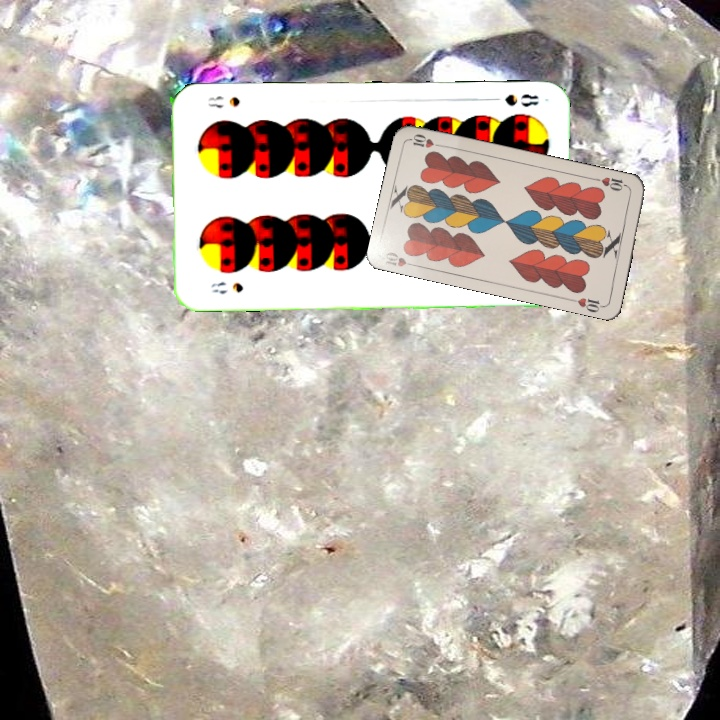H10: (381, 247, 420, 270), (591, 173, 631, 194)
S8: (485, 90, 542, 109), (206, 278, 245, 297)
